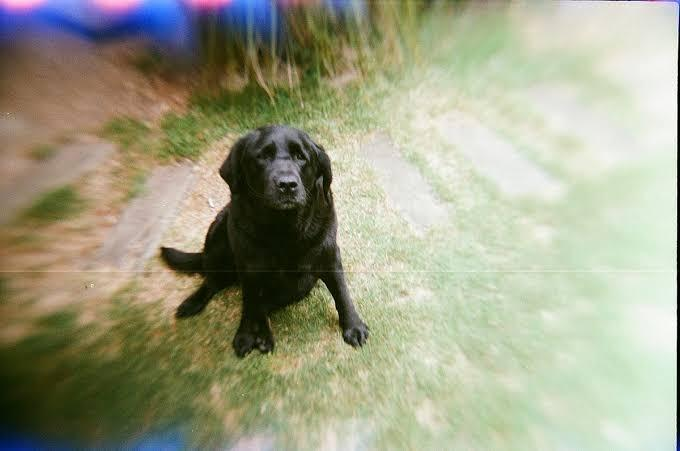adult_dog: (156, 122, 367, 359)
